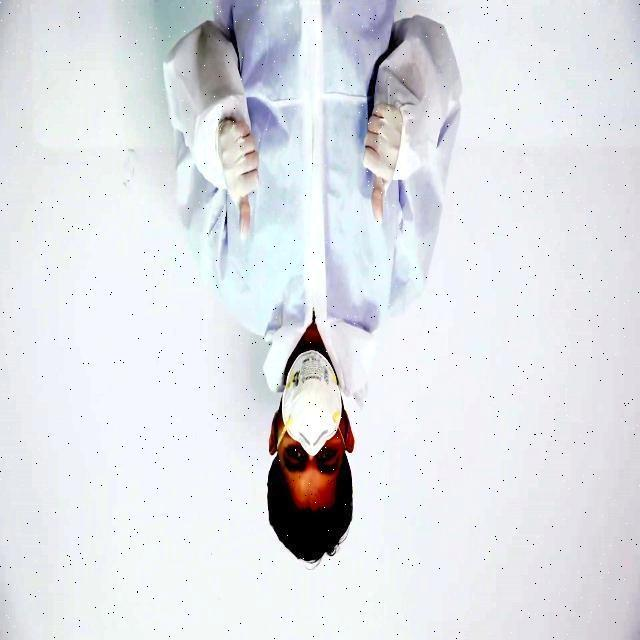apron: (200, 109, 292, 236), (352, 93, 403, 230)
